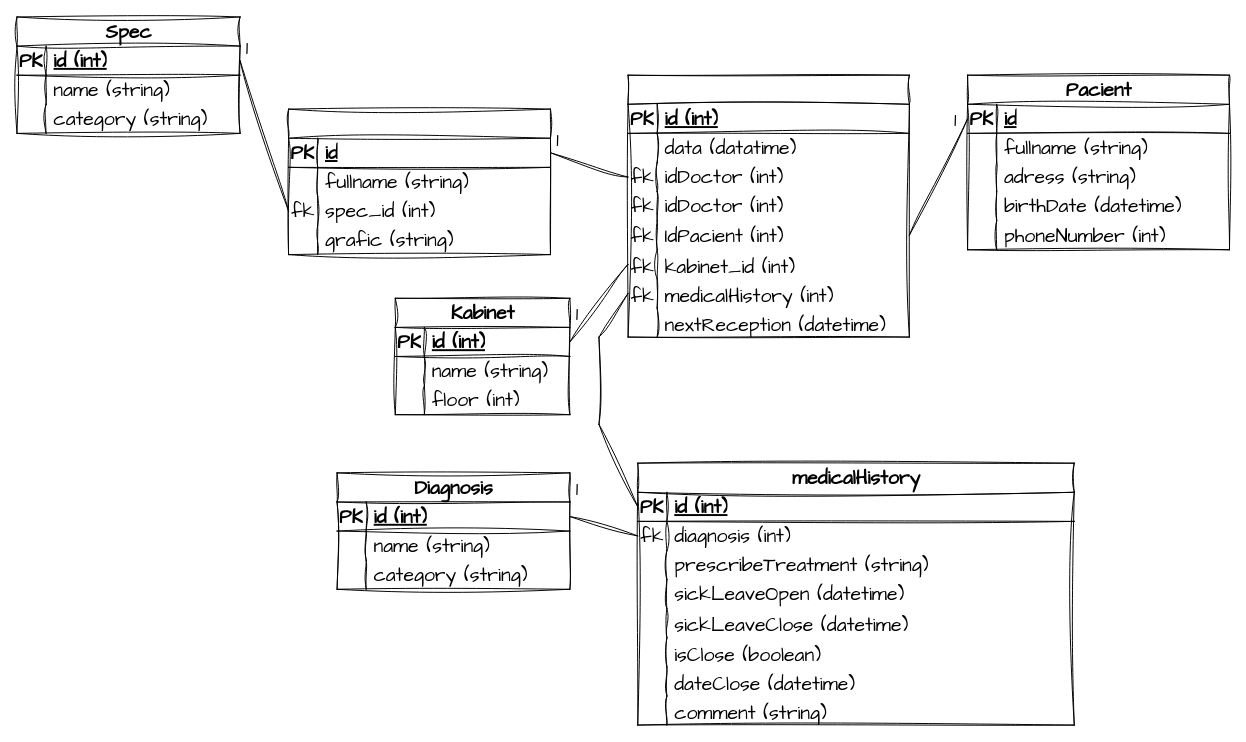
Image size: 1246x742. Some labels were removed from this diagram. Here are the shapes that lost their labels. From the top down, the box of each, then its label:
(288, 108, 550, 255): Doctor
(627, 74, 909, 337): Logbook
